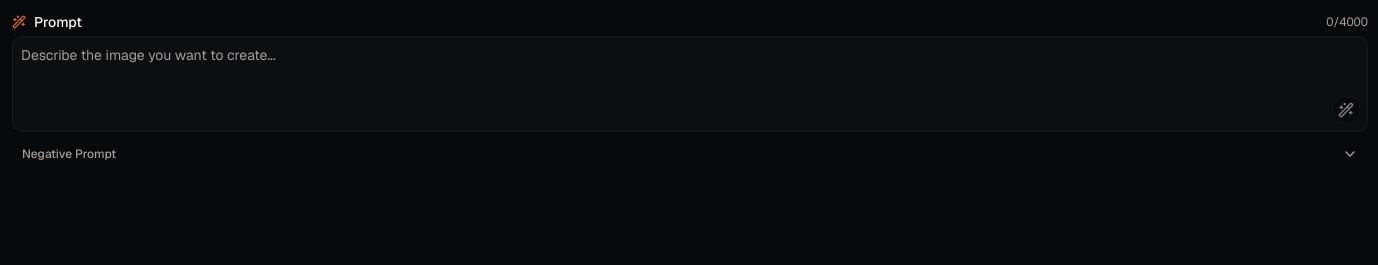
it: PromptSection › negative prompt EnhanceButton disabled state › both enhance buttons enabled when both prompts have content
# Type in positive prompt
Type "A beautiful sunset" into the text box with test id "prompt-input" at [690, 84], box [12,36,1368,132]
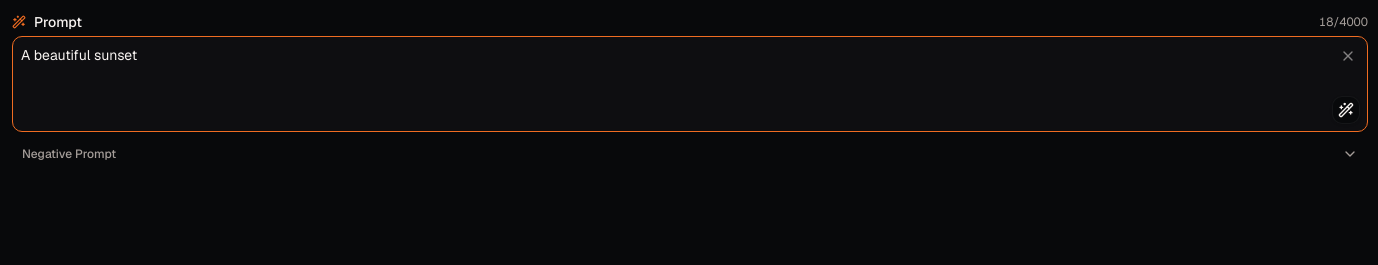
# Open negative prompt and type
Click the button with test id "negative-prompt-toggle" at [69, 154], box [12,138,1368,170]
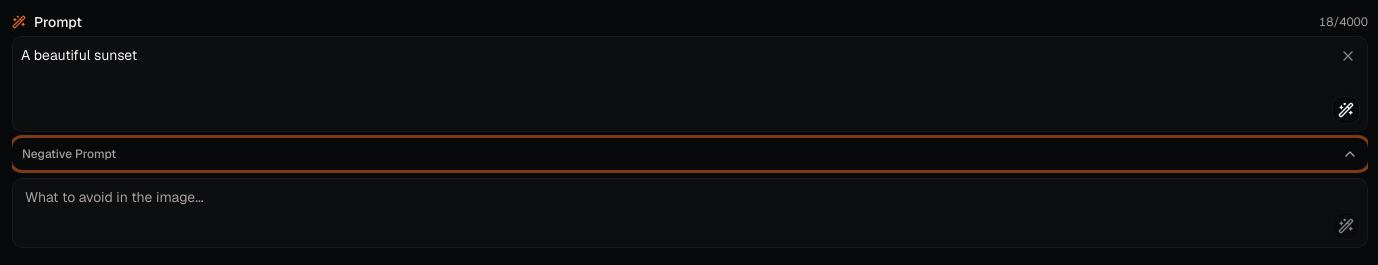
Type "blurry, low quality" into the text box with test id "negative-prompt-input" at [690, 213], box [12,178,1368,248]
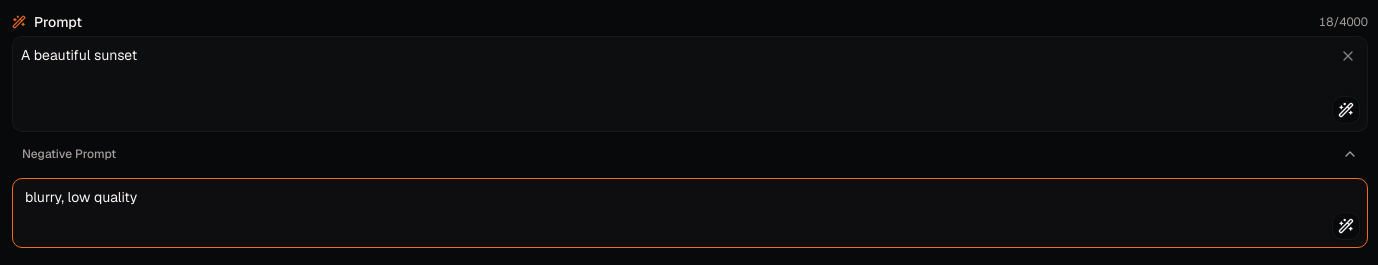
Now the button named "Enhance with AI" below "18" is enabled, box [1332,96,1360,124]
Now the 2nd button named "Enhance with AI" is enabled, box [1332,212,1360,240]
